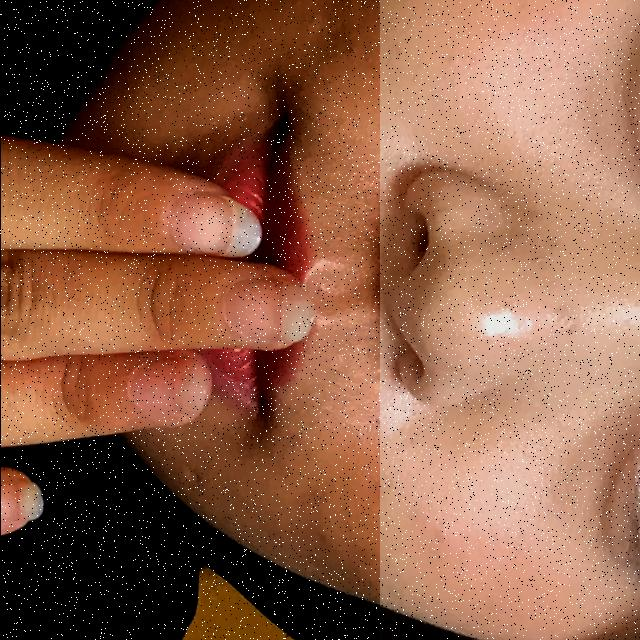ganteng: (0, 0, 379, 640)
